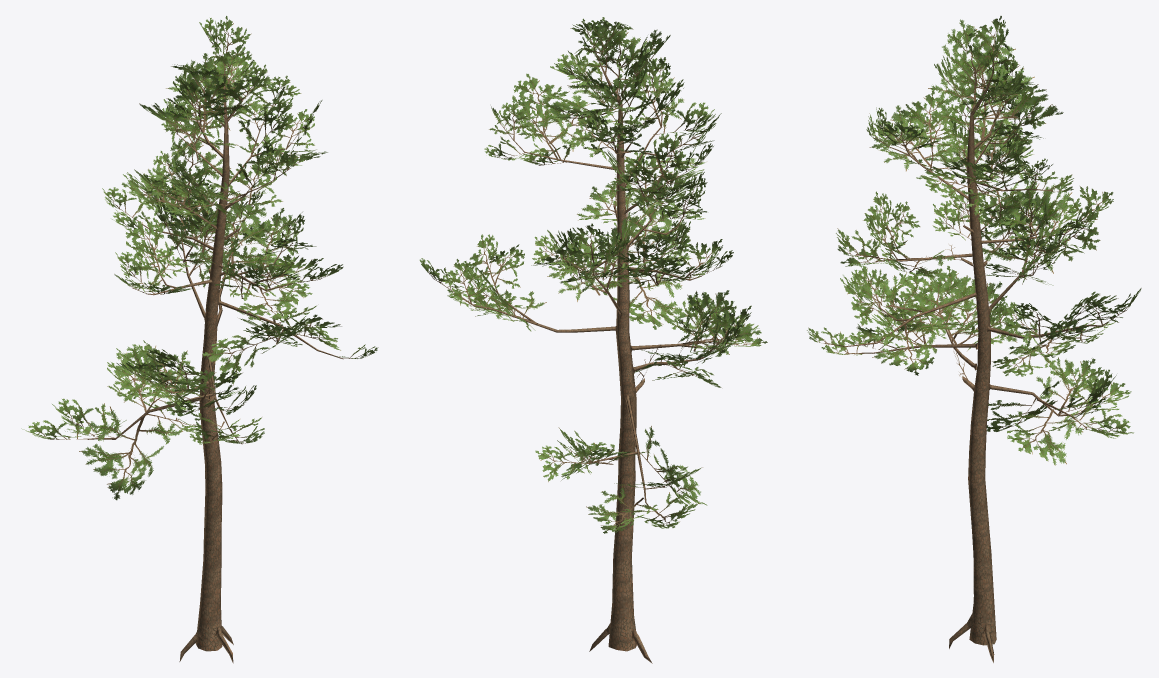
3 views of the same model, side by side, from view 1: azimuth 30°, elevation 25°; view 2: azimuth 150°, elevation 25°; view 3: azimuth 270°, elevation 25° (orthographic). The views are drawn at different scales.
Visible parts, largest first — view 1: Pine_big_1_LOD2_Bark_Mat_0; view 2: Pine_big_1_LOD2_Bark_Mat_0; view 3: Pine_big_1_LOD2_Bark_Mat_0.
Boxes of the visible parts, x1,y1,x2,y2 form: Pine_big_1_LOD2_Bark_Mat_0: (21,16,378,663); Pine_big_1_LOD2_Bark_Mat_0: (419,17,767,663); Pine_big_1_LOD2_Bark_Mat_0: (807,16,1141,662).
Size of the model in its own units: 7.32 by 16.89 by 8.2.
